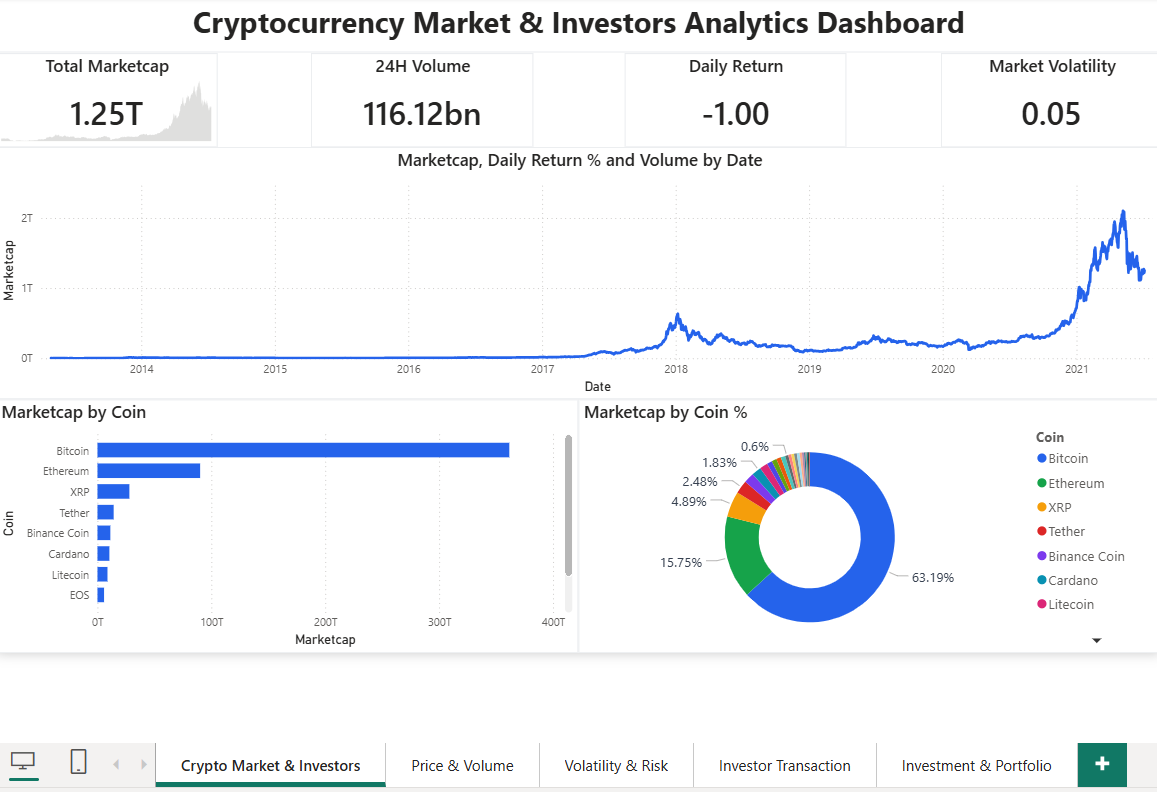

The page's visual inventory and layout, read from the dashboard file:
{"tool":"powerbi","page":{"name":"Crypto Market & Investors","canvas":[1280,720],"ordinal":0},"visuals":[{"type":"kpi","title":"Total Marketcap","fields":{"Indicator":["Sum(Crypto_historical_prices.Marketcap)"],"TrendLine":["Crypto_historical_prices.Date"]},"box":[0,61.7,242.9,102.9],"z":0},{"type":"kpi","title":"24H Volume","fields":{"Indicator":["Crypto_historical_prices.24H Volume"],"TrendLine":["Crypto_historical_prices.Date"]},"box":[345.8,61.7,244.3,102.9],"z":1000},{"type":"kpi","title":"Daily Return","fields":{"TrendLine":["Crypto_historical_prices.Date"],"Indicator":["Crypto_historical_prices.Average Daily Return %"]},"box":[690.2,61.7,242.9,102.9],"z":2000},{"type":"textbox","box":[0,0,1280.3,61.1],"z":3000},{"type":"kpi","title":"Market Volatility","fields":{"Indicator":["Crypto_historical_prices.Volatility 30D"],"TrendLine":["Date.Date"]},"box":[1037.4,61.7,242.9,102.9],"z":4000},{"type":"lineChart","title":"Marketcap, Daily Return % and Volume by Date","fields":{"Y":["Sum(Crypto_historical_prices.Marketcap)"],"Category":["Date.Date"]},"box":[0,164.7,1280.3,277.2],"z":5000},{"type":"donutChart","title":"Marketcap by Coin %","fields":{"Category":["Crypto_historical_prices.Name"],"Y":["Sum(Crypto_historical_prices.Marketcap)"]},"box":[639.5,441.9,639.5,278.6],"z":6000},{"type":"barChart","fields":{"Category":["Crypto_historical_prices.Name"],"Y":["Sum(Crypto_historical_prices.Marketcap)"]},"box":[0,442,639,278],"z":7000}]}

Visuals, with their boxes on the page's 1280x720 design canvas (x1, y1, x2, y2). These are canvas units, not pixel positions in the 1157x792 screenshot, which may show the page scaled, cropped or inside an application window:
"Total Marketcap" kpi: <box>0,62,243,165</box>
"24H Volume" kpi: <box>346,62,590,165</box>
"Daily Return" kpi: <box>690,62,933,165</box>
textbox: <box>0,0,1280,61</box>
"Market Volatility" kpi: <box>1037,62,1280,165</box>
"Marketcap, Daily Return % and Volume by Date" lineChart: <box>0,165,1280,442</box>
"Marketcap by Coin %" donutChart: <box>640,442,1279,720</box>
barChart - Crypto_historical_prices.Name x Sum(Crypto_historical_prices.Marketcap): <box>0,442,639,720</box>
